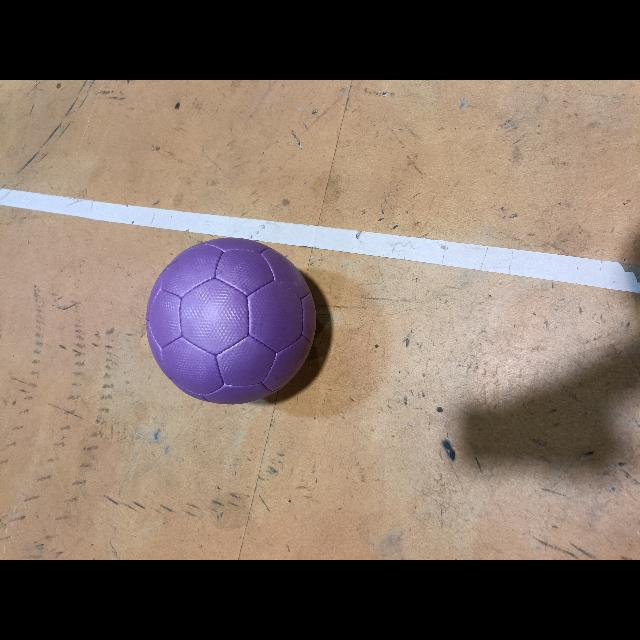P: (147, 237, 317, 403)
